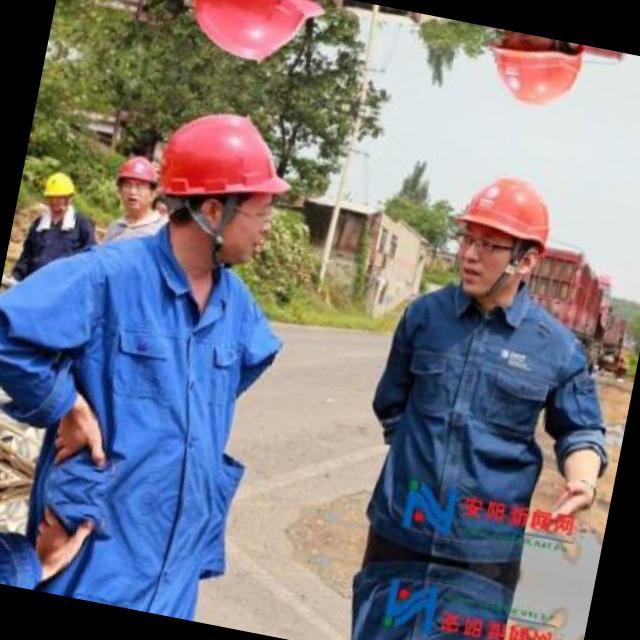helmet: (143, 91, 308, 280), (431, 154, 569, 310), (467, 26, 596, 128), (181, 0, 333, 85), (105, 146, 168, 222), (39, 166, 81, 216)
